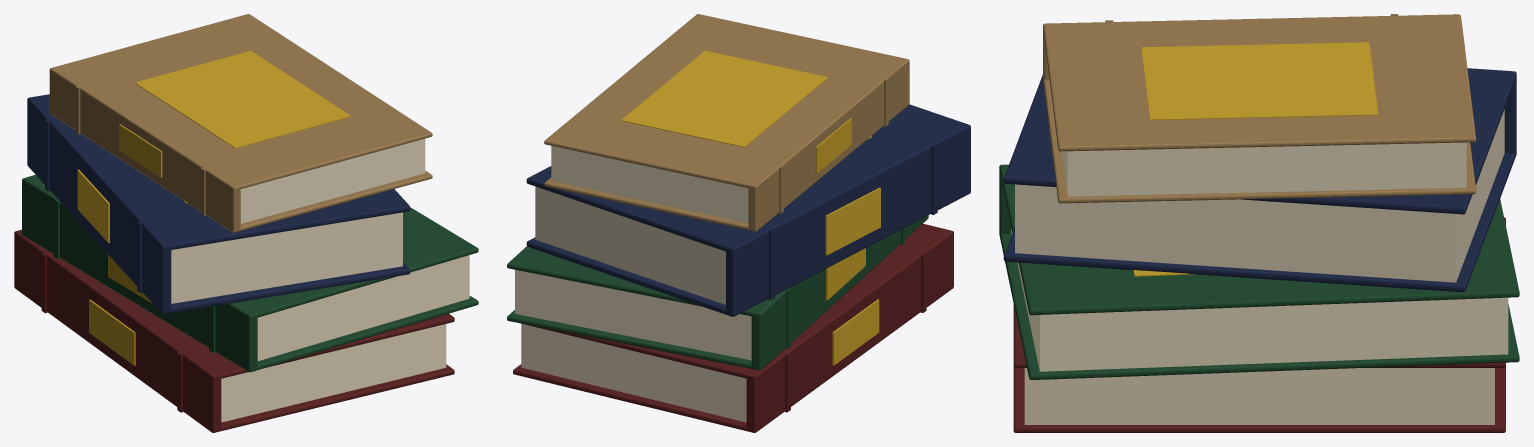
The model's file is BookTower.fbx.
The picture shows the model from 3 angles, left to right: view 1: azimuth 30°, elevation 25°; view 2: azimuth 150°, elevation 25°; view 3: azimuth 270°, elevation 25°; orthographic projection. The views are drawn at different scales.
Parts seen in each view (by area): view 1: BookTower; view 2: BookTower; view 3: BookTower.
Part boxes in pixels (x1,y1,x2,y2): BookTower: (14,14,478,432); BookTower: (507,14,970,432); BookTower: (999,14,1519,432).
Size of the model in its own units: 19.55 by 14.04 by 23.25.
